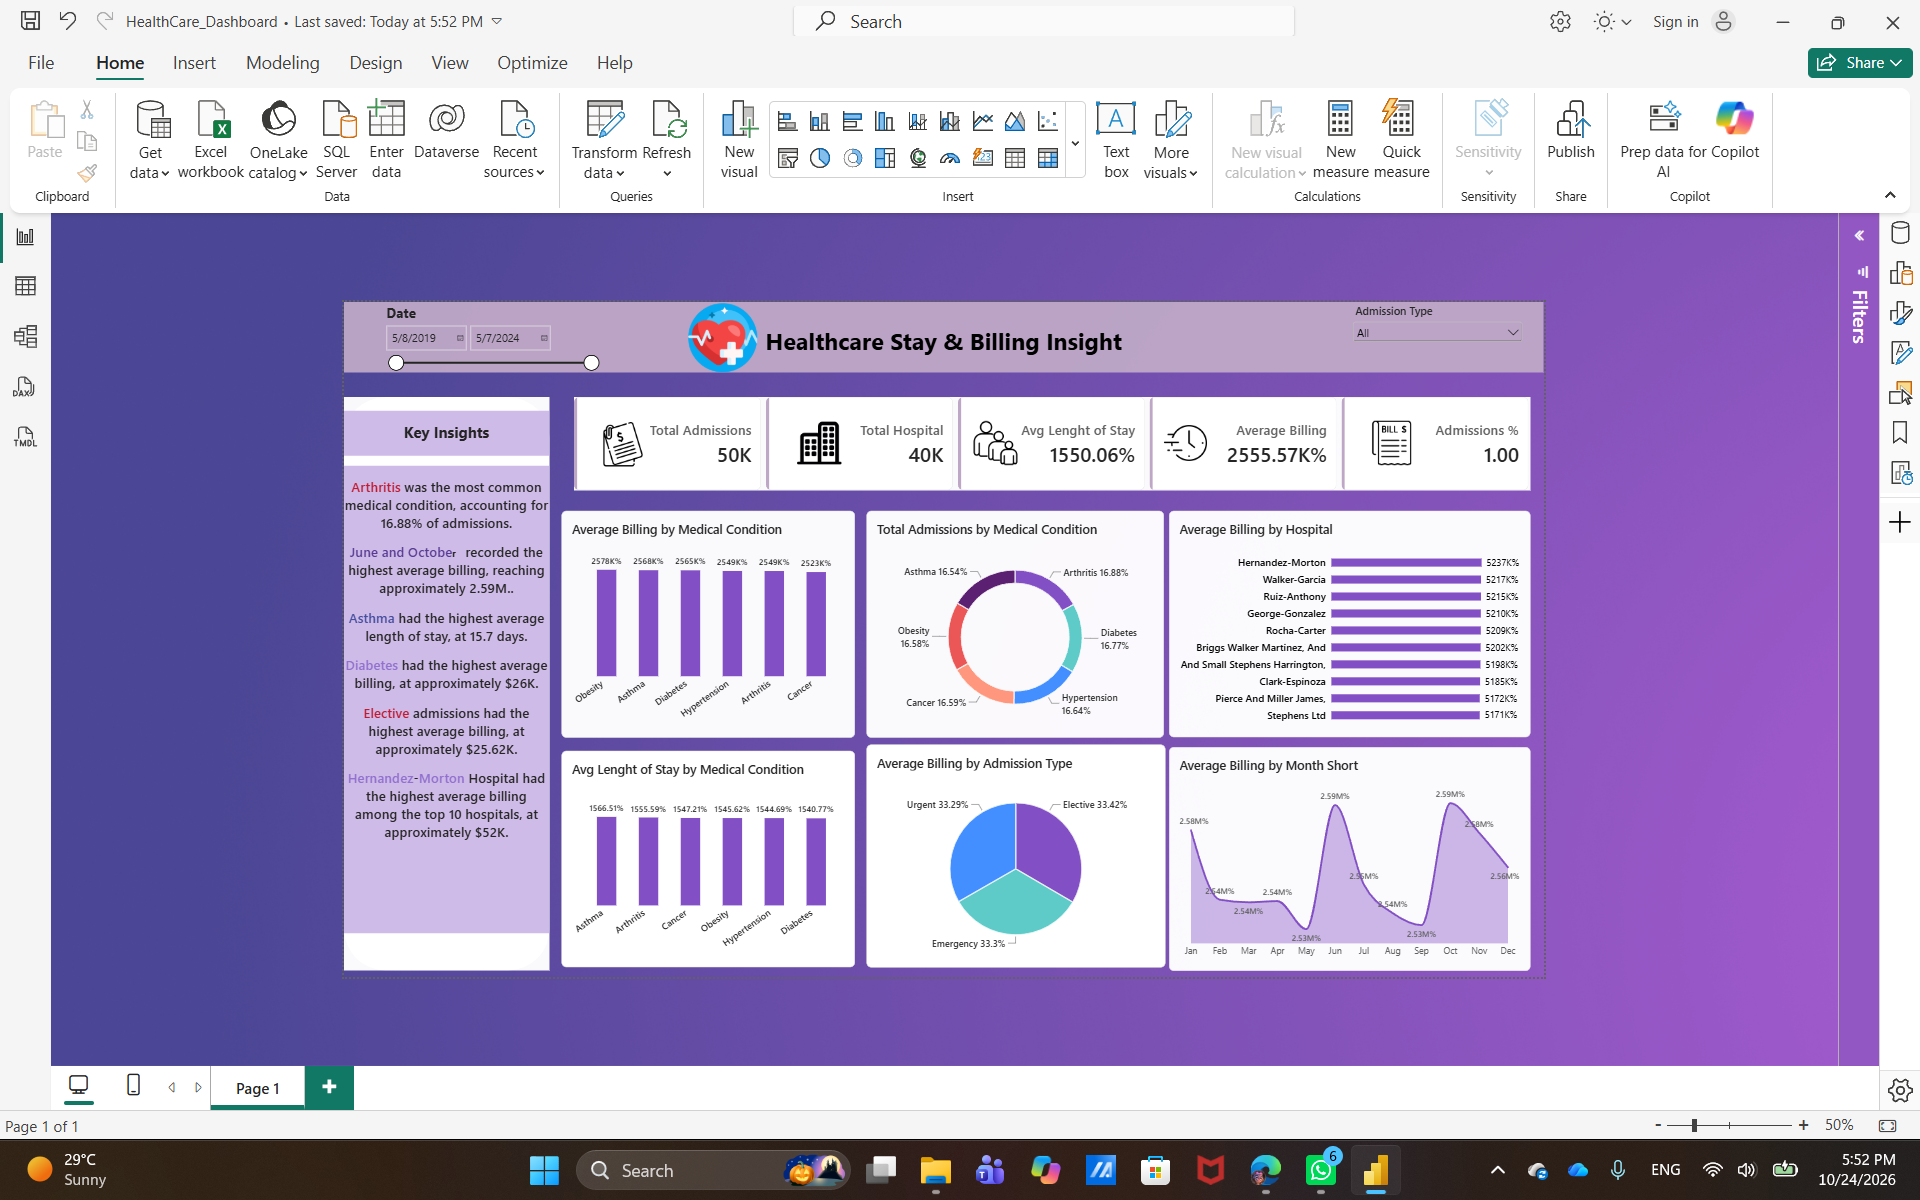

What the dashboard file says about the page in this screenshot:
{"tool":"powerbi","page":{"name":"Page 1","canvas":[1920,1080],"ordinal":0},"visuals":[{"type":"textbox","box":[0,0,1919.6,112.5],"z":0},{"type":"cardVisual","fields":{"Data":["_Measures.Total Admissions","_Measures.Total Hospital","_Measures.Avg Lenght of Stay","_Measures.Average Billing","_Measures.Admissions %"]},"box":[368,152,1530,149.3],"z":1000},{"type":"image","box":[986,190,112.5,71.4],"z":2000},{"type":"image","box":[704,190,112.5,71.4],"z":3000},{"type":"image","box":[389.5,192.6,112.5,71.4],"z":4000},{"type":"image","box":[1620.9,190.4,112.5,71.4],"z":5000},{"type":"image","box":[1290,190,112.5,71.4],"z":6000},{"type":"clusteredBarChart","fields":{"Category":["Fact_healthcare.Hospital"],"Y":["_Measures.Average Billing"]},"box":[1320,334,578,362],"z":7000},{"type":"donutChart","fields":{"Category":["Fact_healthcare.Medical Condition"],"Y":["_Measures.Total Admissions"]},"box":[835.4,333.3,476.1,363.6],"z":8000},{"type":"columnChart","fields":{"Category":["Fact_healthcare.Medical Condition"],"Y":["_Measures.Average Billing"]},"box":[348.4,333.3,469.6,363.6],"z":9000},{"type":"pieChart","fields":{"Category":["Dim_Patient.Admission Type"],"Y":["_Measures.Average Billing"]},"box":[835.4,707.7,478.3,357.1],"z":10000},{"type":"areaChart","fields":{"Category":["Dim_Date.Month Short"],"Y":["_Measures.Average Billing"]},"box":[1320,712,578,358],"z":11000},{"type":"columnChart","fields":{"Category":["Fact_healthcare.Medical Condition"],"Y":["_Measures.Avg Lenght of Stay"]},"box":[348.4,718.5,469.6,346.3],"z":12000},{"type":"image","box":[530.2,2.2,151.5,110.4],"z":13000},{"type":"slicer","fields":{"Values":["Dim_Date.Date"]},"box":[60,2,352,150],"z":14000},{"type":"slicer","fields":{"Values":["Dim_Patient.Admission Type"]},"box":[1610,2,280,110],"z":15000},{"type":"shape","box":[0,151.5,328.9,917.6],"z":16000},{"type":"textbox","box":[0,174,328,72],"z":17000},{"type":"textbox","box":[0,262,328,748],"z":18000}]}

Visuals, with their boxes on the page's 1920x1080 design canvas (x1, y1, x2, y2). These are canvas units, not pixel positions in the 1920x1200 screenshot, which may show the page scaled, cropped or inside an application window:
textbox: [0,0,1920,112]
cardVisual - _Measures.Total Admissions x _Measures.Total Hospital: [368,152,1898,301]
image: [986,190,1098,261]
image: [704,190,816,261]
image: [390,193,502,264]
image: [1621,190,1733,262]
image: [1290,190,1402,261]
clusteredBarChart - Fact_healthcare.Hospital x _Measures.Average Billing: [1320,334,1898,696]
donutChart - Fact_healthcare.Medical Condition x _Measures.Total Admissions: [835,333,1312,697]
columnChart - Fact_healthcare.Medical Condition x _Measures.Average Billing: [348,333,818,697]
pieChart - Dim_Patient.Admission Type x _Measures.Average Billing: [835,708,1314,1065]
areaChart - Dim_Date.Month Short x _Measures.Average Billing: [1320,712,1898,1070]
columnChart - Fact_healthcare.Medical Condition x _Measures.Avg Lenght of Stay: [348,718,818,1065]
image: [530,2,682,113]
slicer - Dim_Date.Date: [60,2,412,152]
slicer - Dim_Patient.Admission Type: [1610,2,1890,112]
shape: [0,152,329,1069]
textbox: [0,174,328,246]
textbox: [0,262,328,1010]
